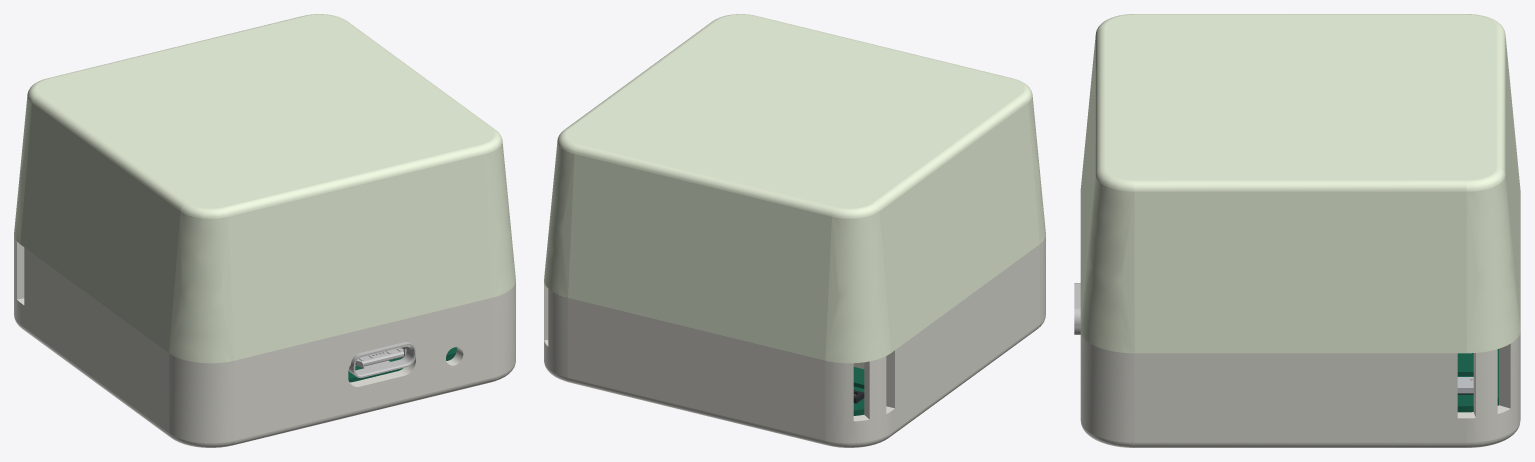
File: aircube-base.glb
3 views of the same model, side by side, from view 1: azimuth 30°, elevation 25°; view 2: azimuth 150°, elevation 25°; view 3: azimuth 270°, elevation 25° (orthographic). The views are drawn at different scales.
Visible parts, largest first — view 1: diffuser, housing, P1_details; view 2: diffuser, housing; view 3: diffuser, housing, board.
Boxes of the visible parts, x1,y1,x2,y2 form: diffuser: [14, 14, 515, 363]; housing: [14, 236, 515, 447]; P1_details: [348, 342, 415, 378]; diffuser: [544, 14, 1045, 363]; housing: [544, 236, 1045, 447]; diffuser: [1080, 14, 1520, 353]; housing: [1080, 331, 1520, 447]; board: [1457, 349, 1498, 412].
Size of the model in its own units: 49 by 32 by 49.69.
